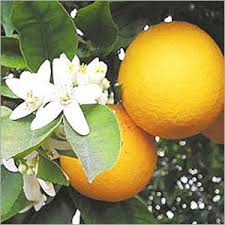orange: (107, 22, 225, 142), (56, 106, 159, 206)
